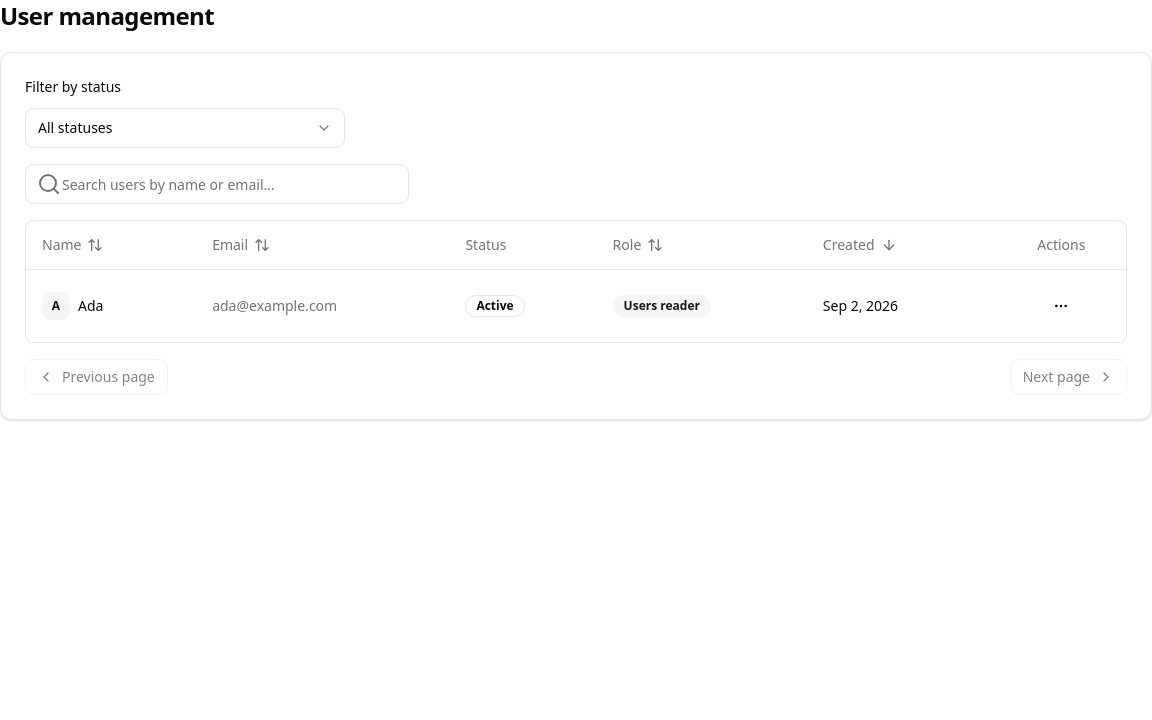
Scenario: access components › keeps a stale assignment draft and requires a browser refresh
The image size is (1152, 720).
Expected: the text "Ada" is shown, left=78, top=296, right=103, bottom=316
Click the button named "More actions": (1061, 306) left=1041, top=286, right=1081, bottom=326
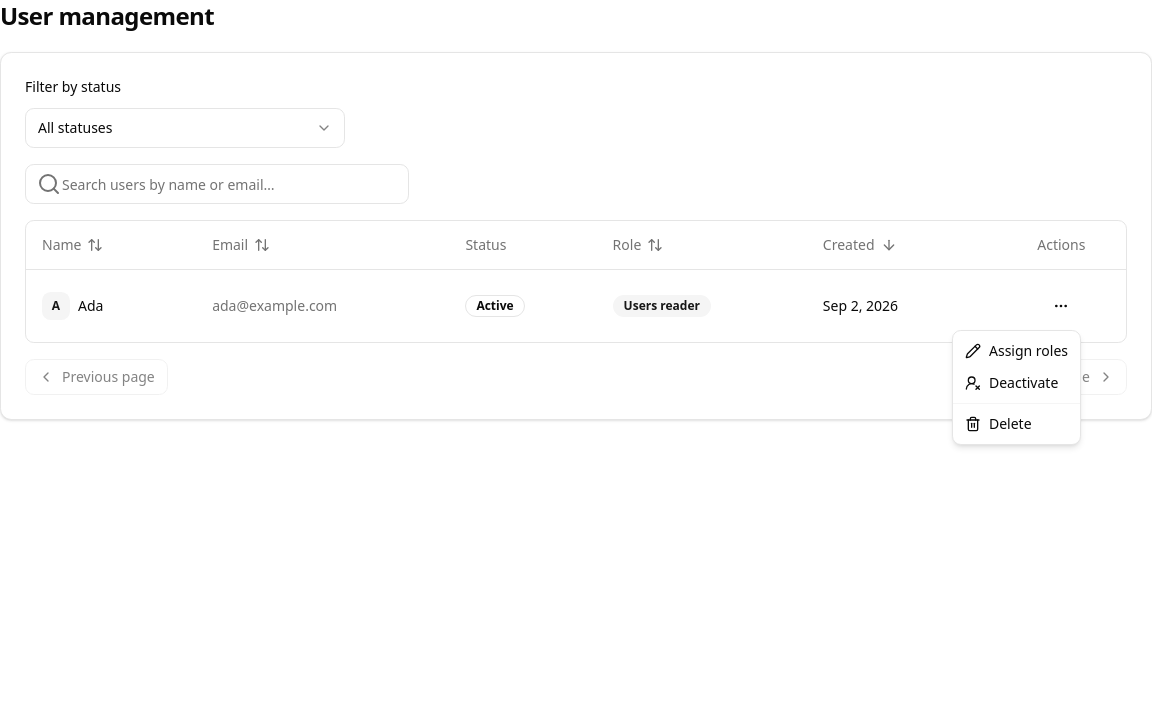
Click the menu item "Assign roles": (1017, 350) left=965, top=341, right=1068, bottom=360
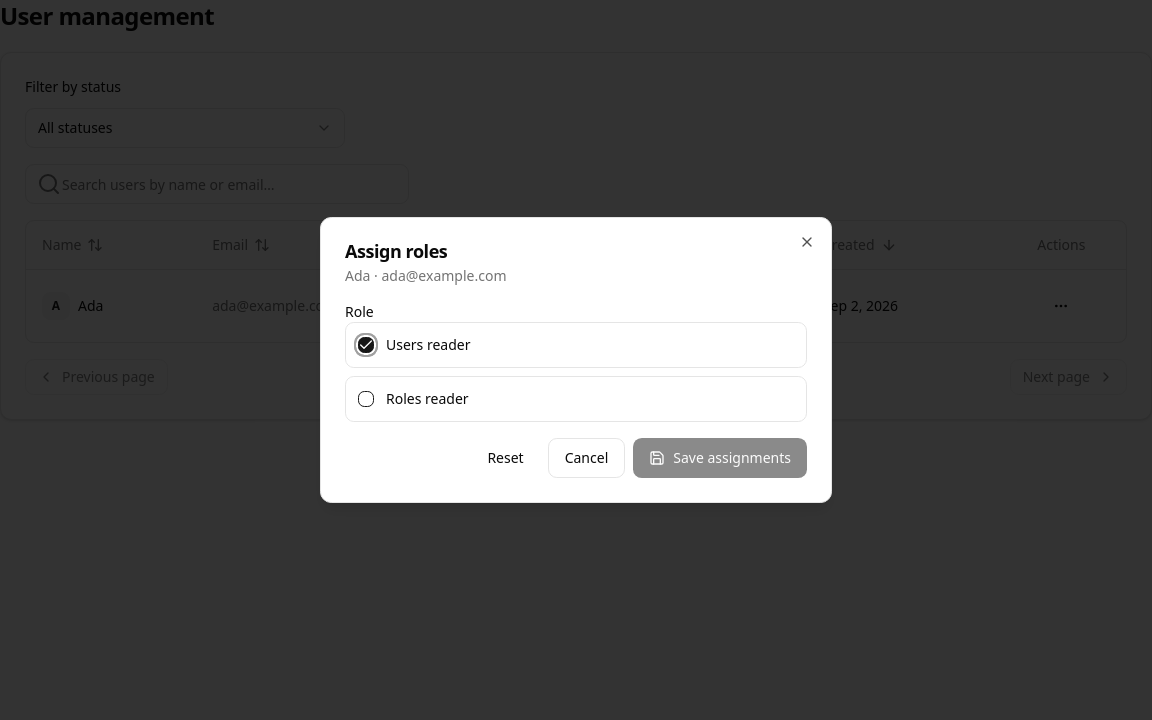
Click the checkbox named "Users reader": (366, 345) left=358, top=337, right=374, bottom=353
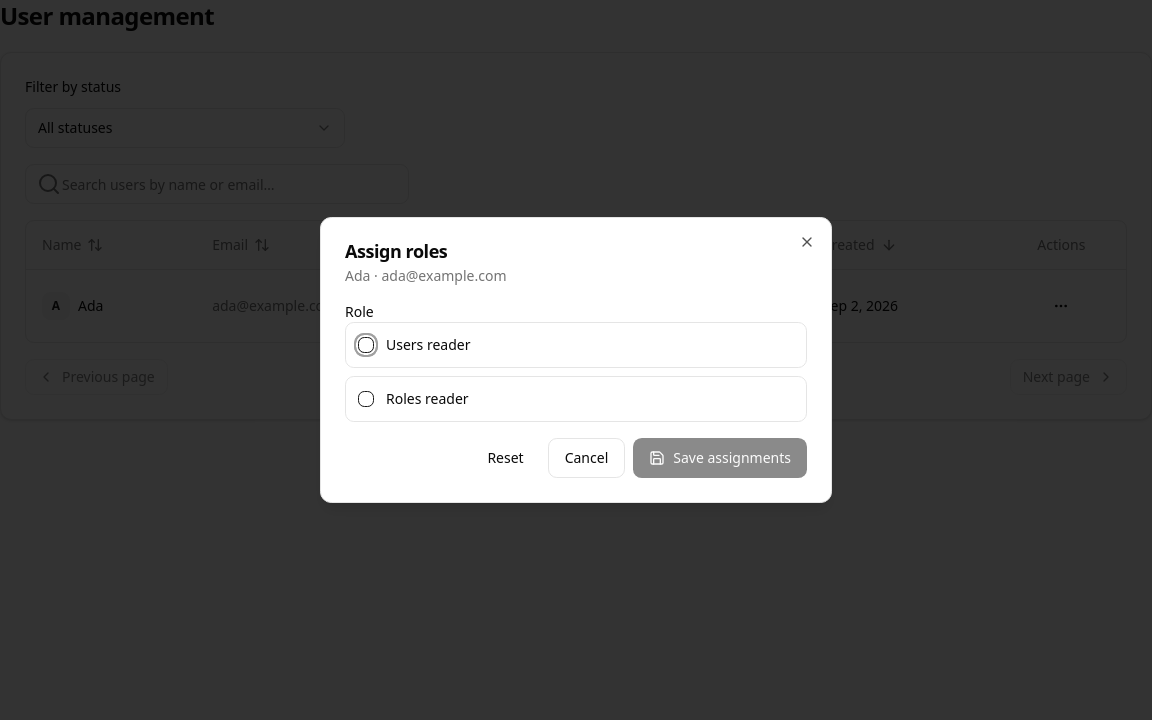
Click the checkbox named "Roles reader": (366, 399) left=358, top=391, right=374, bottom=407
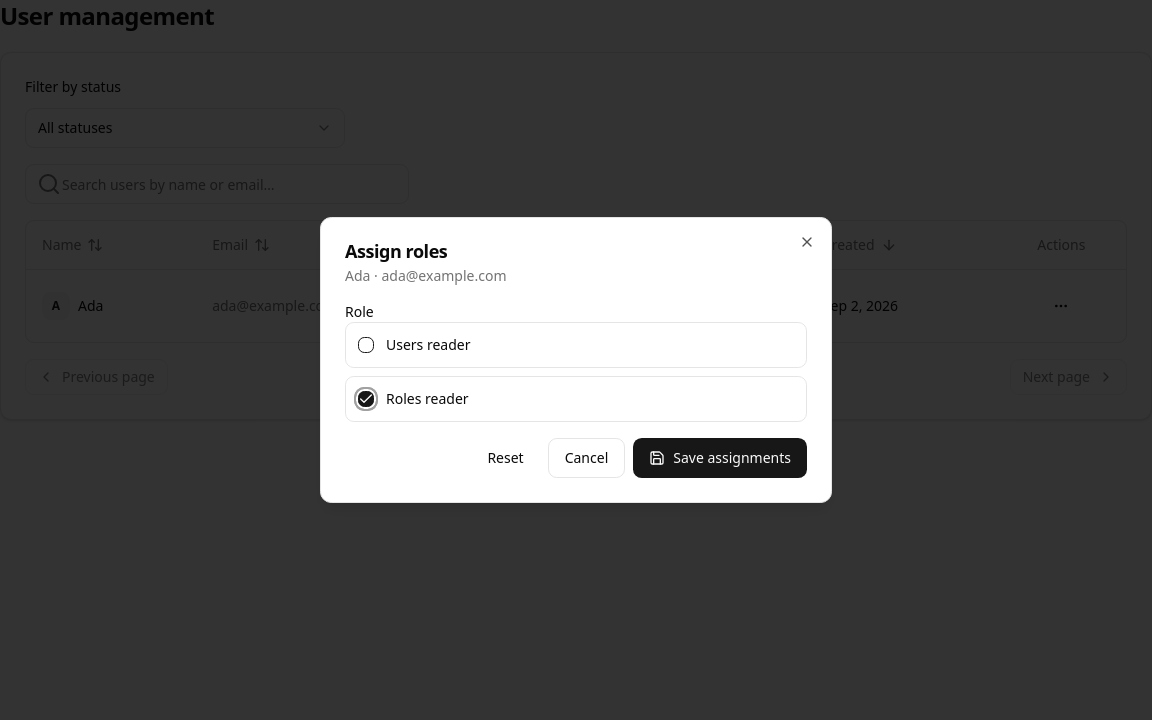
Click the button "Save assignments": (720, 458) left=633, top=438, right=807, bottom=478
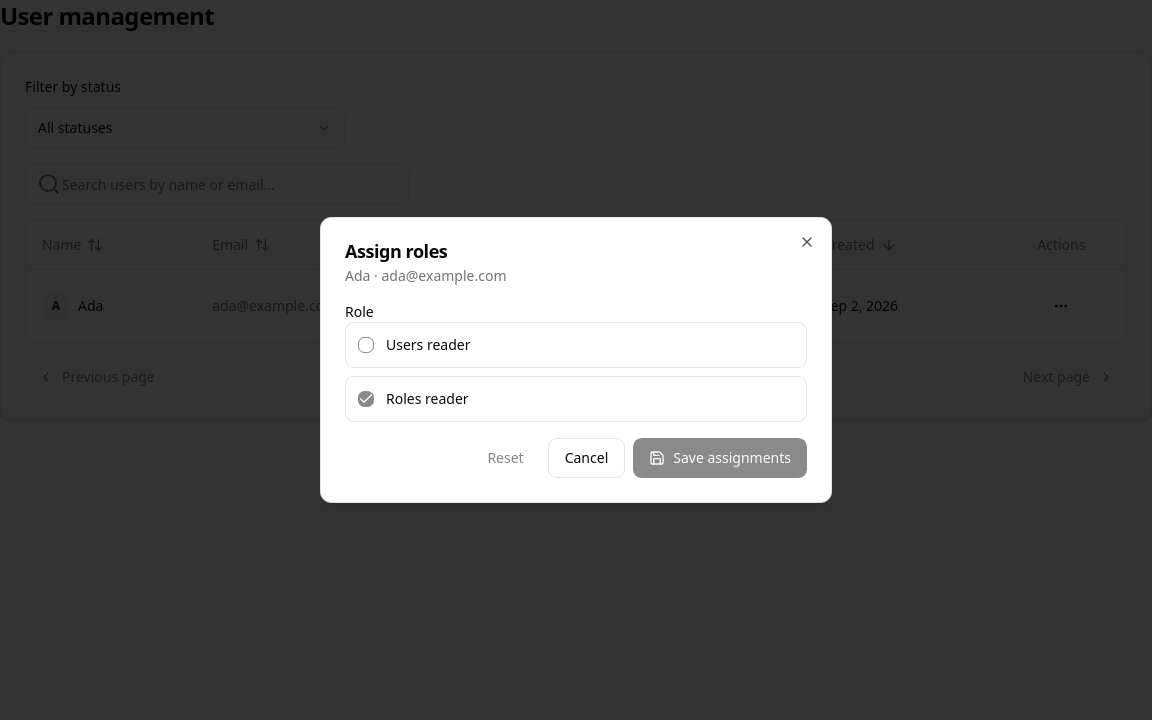
Expected: the checkbox named "Users reader" is not checked, left=358, top=337, right=374, bottom=353
Expected: the checkbox named "Roles reader" is checked, left=358, top=391, right=374, bottom=407
Expected: the button "Save assignments" is disabled, left=633, top=438, right=807, bottom=478
